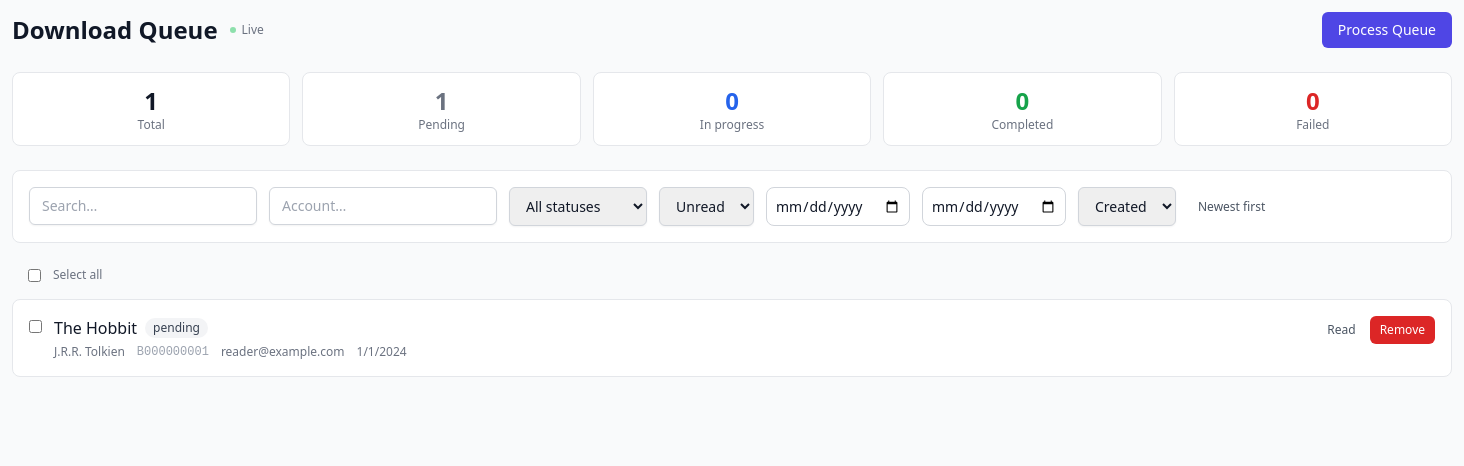
Test: DownloadQueuePage › bulk actions › clears the selection after a bulk action, so the next one cannot reuse it
The width and height of the screenshot is (1464, 466).
Click the checkbox next to "The Hobbit".
click(36, 326)  # box [29,320,42,333]
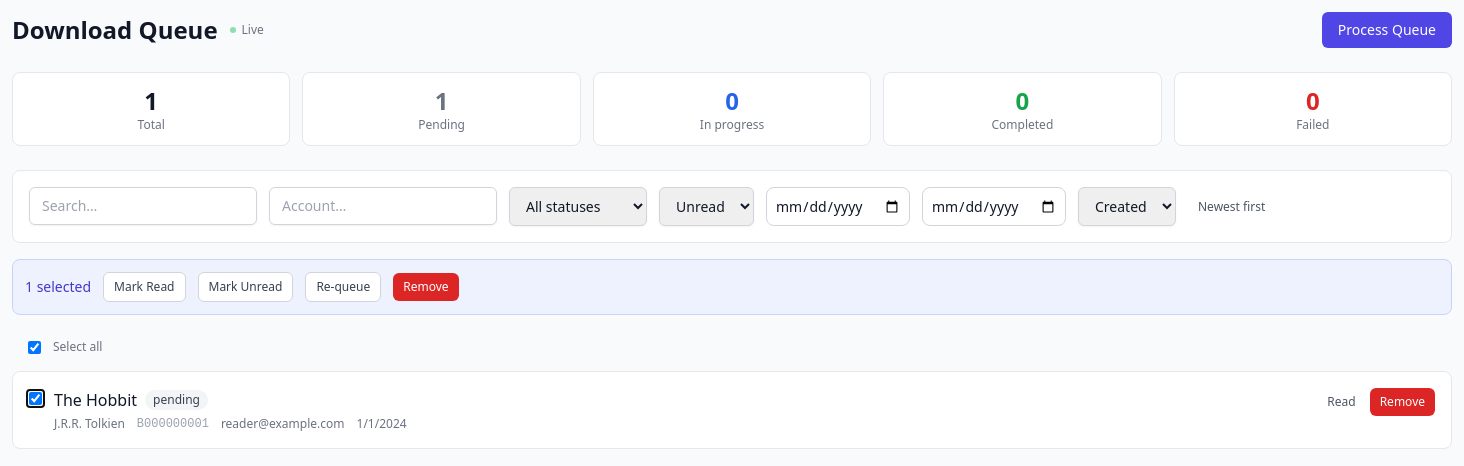
Click the button "Mark Read".
click(144, 287)  # box [103,272,186,302]
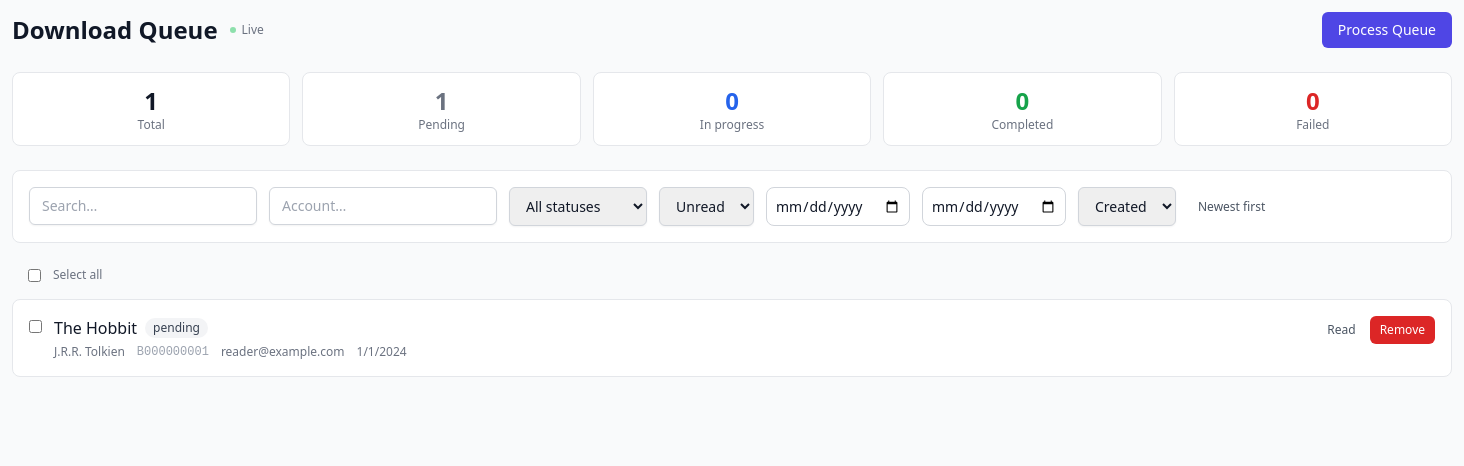
Check: the text "1 selected" is gone
